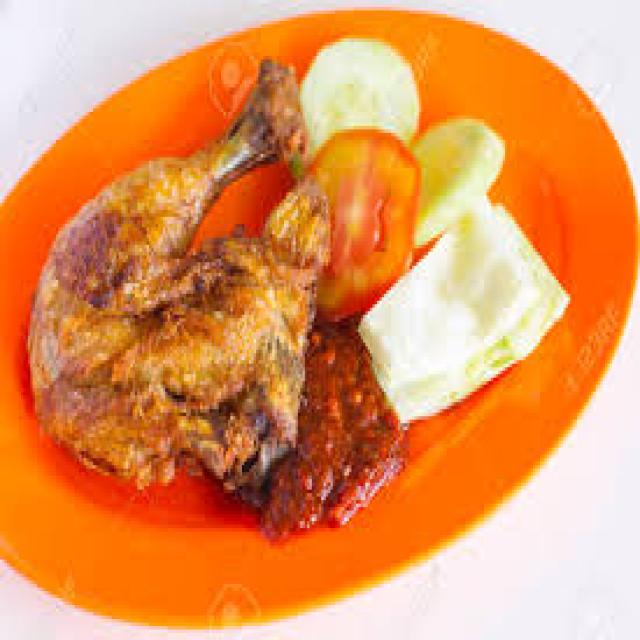Frango: (28, 56, 318, 489)
